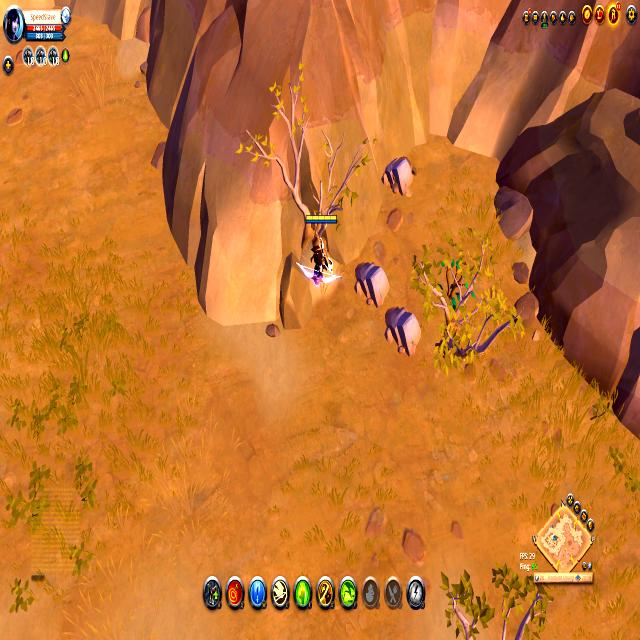red: (300, 209, 338, 286)
